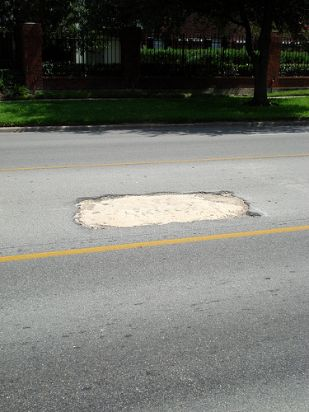pothole: (67, 186, 266, 230)
